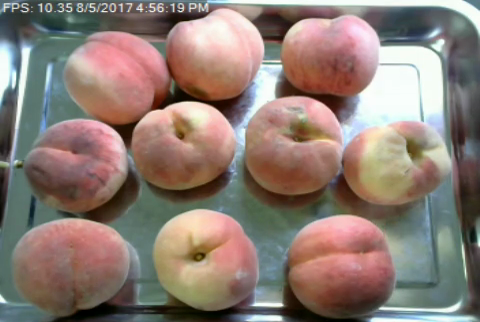Peach: (12, 216, 130, 315), (288, 215, 394, 319), (153, 210, 257, 310), (65, 29, 167, 126), (244, 95, 342, 194), (27, 119, 129, 213), (130, 100, 234, 190), (166, 7, 264, 102), (342, 119, 449, 205), (280, 14, 380, 98)
